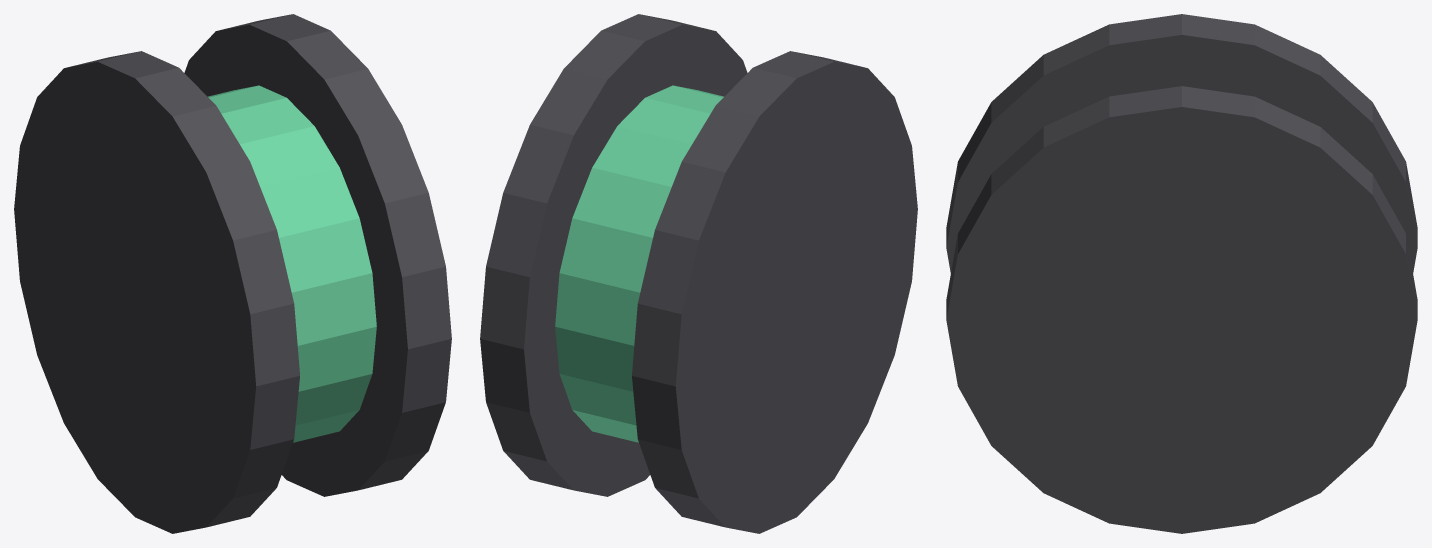
File: filament-spool.glb
3 views of the same model, side by side, from view 1: azimuth 30°, elevation 25°; view 2: azimuth 150°, elevation 25°; view 3: azimuth 270°, elevation 25° (orthographic). The views are drawn at different scales.
Visible parts, largest first — view 1: FlangeL, FlangeR, Filament; view 2: FlangeL, FlangeR, Filament; view 3: FlangeR, FlangeL.
Boxes of the visible parts, bbox=[...] form: FlangeL: bbox=[14, 51, 299, 533]; FlangeR: bbox=[184, 14, 451, 496]; Filament: bbox=[208, 85, 376, 442]; FlangeL: bbox=[632, 51, 917, 533]; FlangeR: bbox=[480, 14, 747, 496]; Filament: bbox=[555, 85, 723, 442]; FlangeR: bbox=[946, 86, 1417, 533]; FlangeL: bbox=[946, 14, 1417, 273].
Size of the model in its own units: 0.098 by 0.21 by 0.21.
